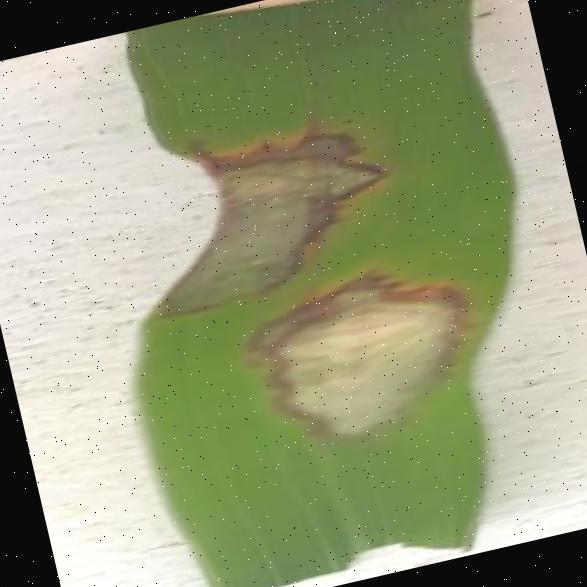Leaf_smut: (225, 231, 544, 486), (108, 94, 403, 338)
